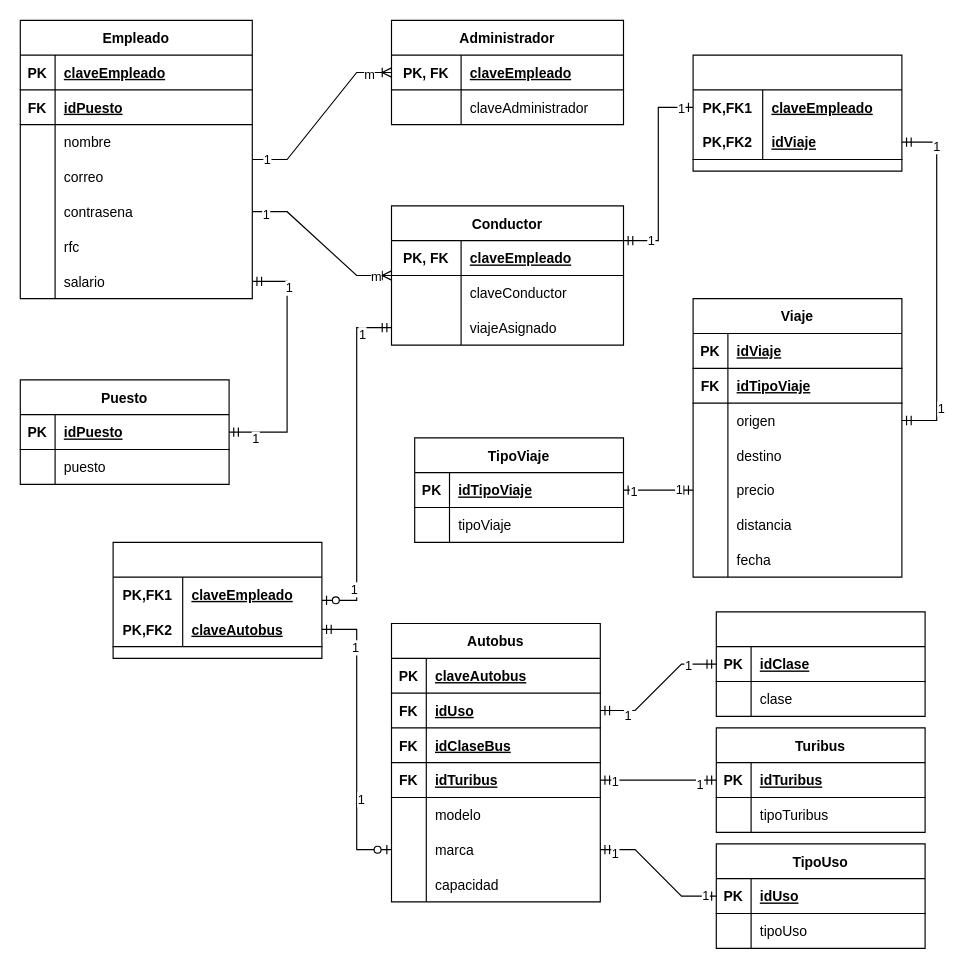
Some shapes in this 967 by 969 pixel diagram are drawn without their labels. The shapes that lost their labels are listed below. From the top down, each one's box as (x1, y1, x2, y2) in pixels, then its label:
(692, 54, 902, 171): Conductor_Viaje
(112, 541, 322, 658): Conductor_Autobus
(715, 611, 925, 716): ClaseBus
